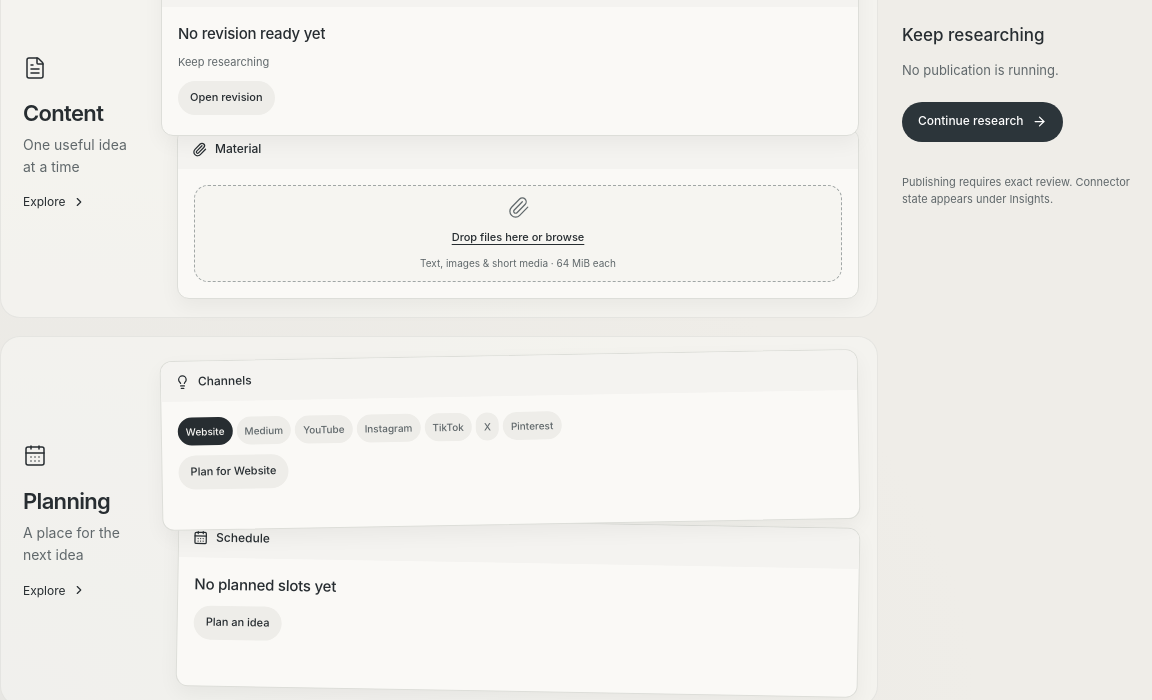
Scenario: contextual studio interactions with the real API client › saves a device-local planning date as UTC, then removes only the saved slot
(page scrolled)
Click the button "Planning A place for the next idea Explore": click(84, 521) left=19, top=444, right=149, bottom=598
(page scrolled)
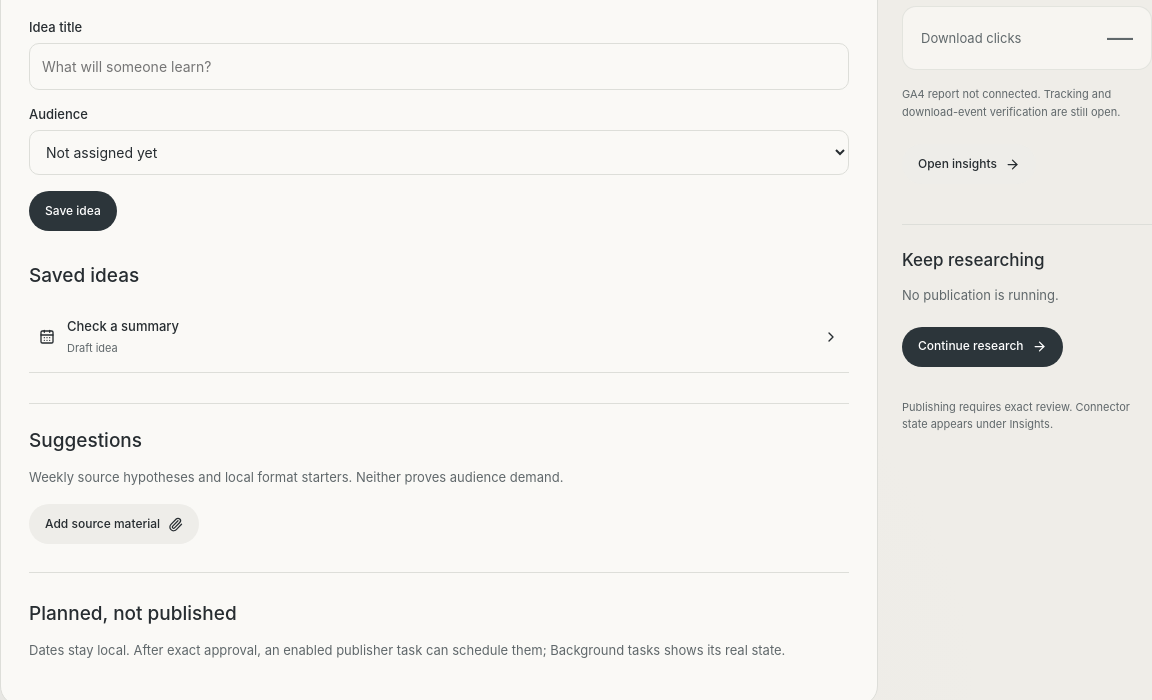
Click the button "Check a summary Draft idea": click(123, 326) left=29, top=302, right=849, bottom=373
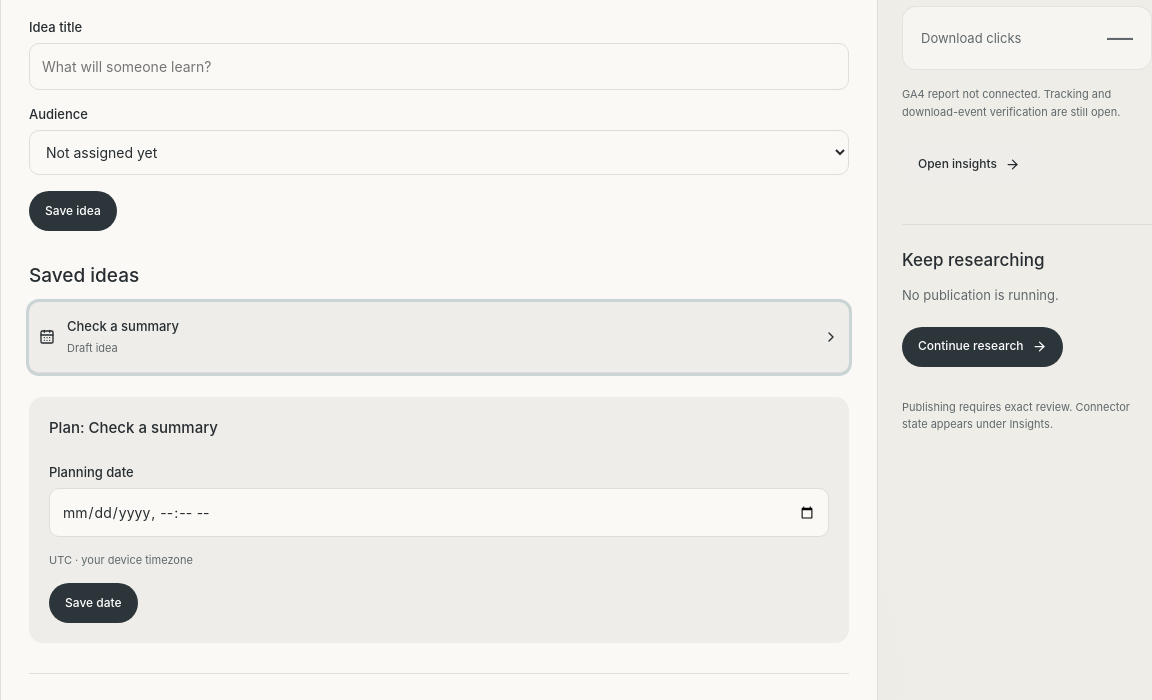
In the field labelled "Planning date": (439, 513) left=49, top=488, right=829, bottom=537, type "2026-09-12T14:30"
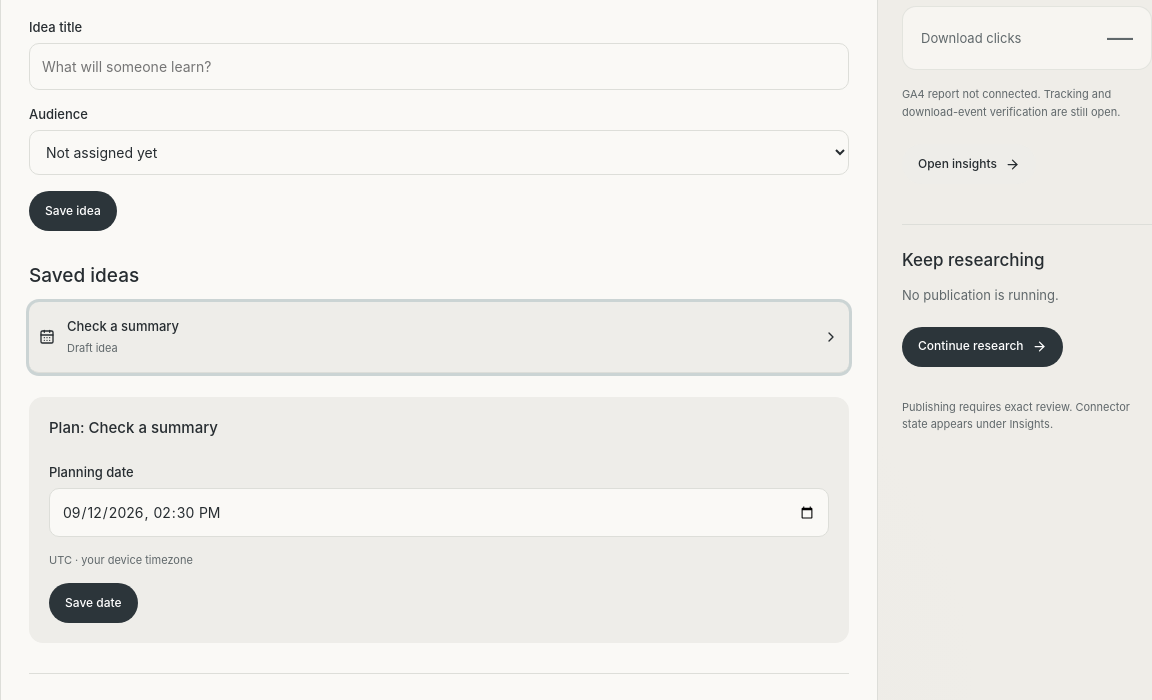
Click the button "Save date": click(93, 603) left=49, top=583, right=138, bottom=623
(page scrolled)
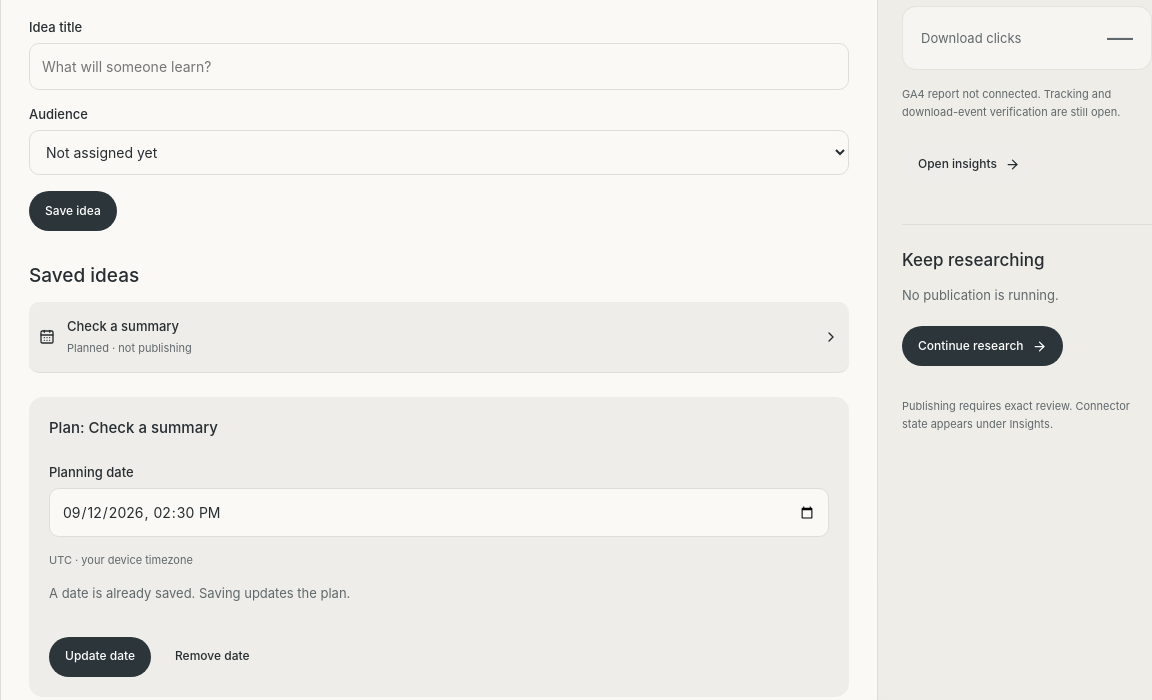
Click the button "Remove date": click(212, 656) left=159, top=636, right=266, bottom=676
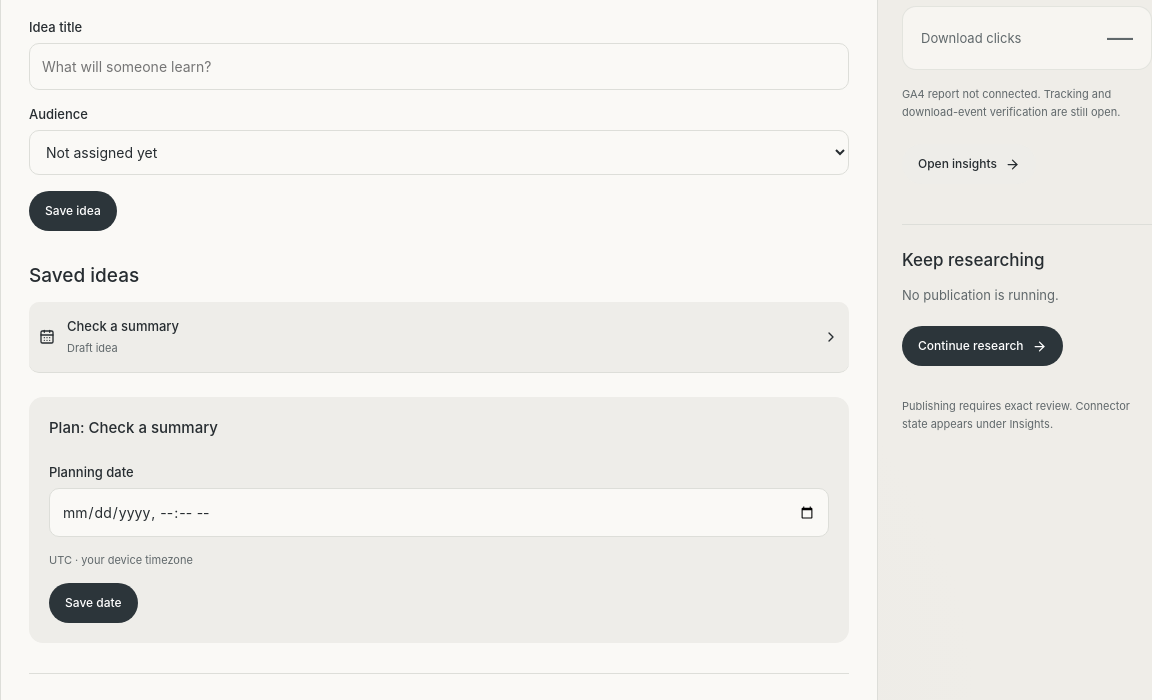
expect the button "Check a summary Draft idea" is shown: met, box left=29, top=302, right=849, bottom=373
